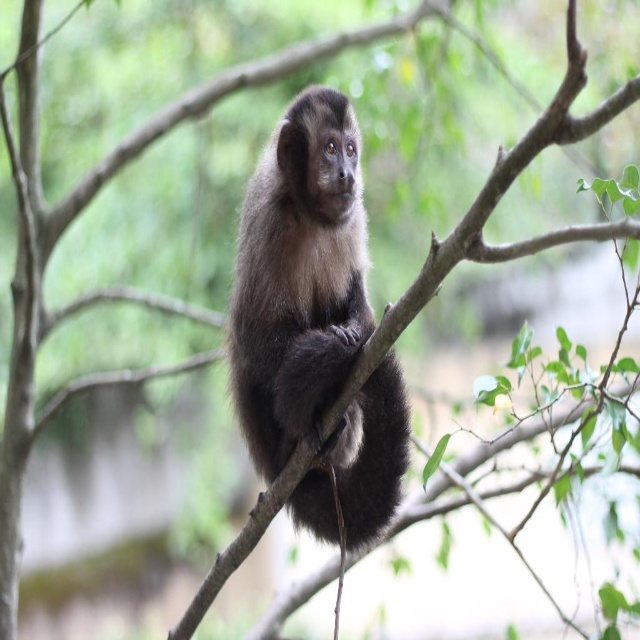Monkey: (228, 108, 426, 591)
